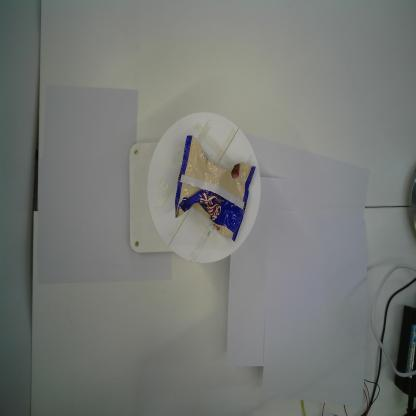Dessert: (174, 134, 257, 244)
